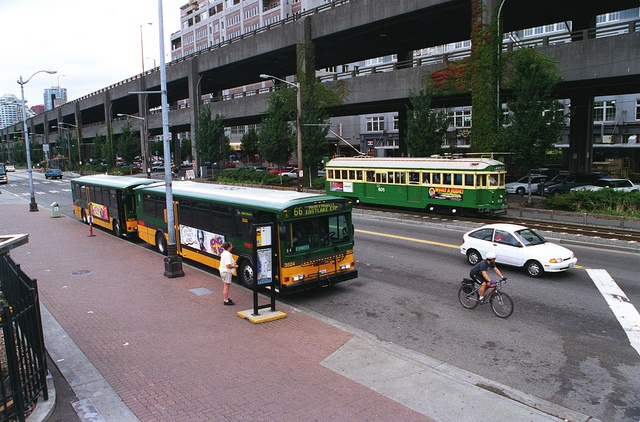non-vehicle: (457, 277, 513, 317), (170, 172, 181, 180)
